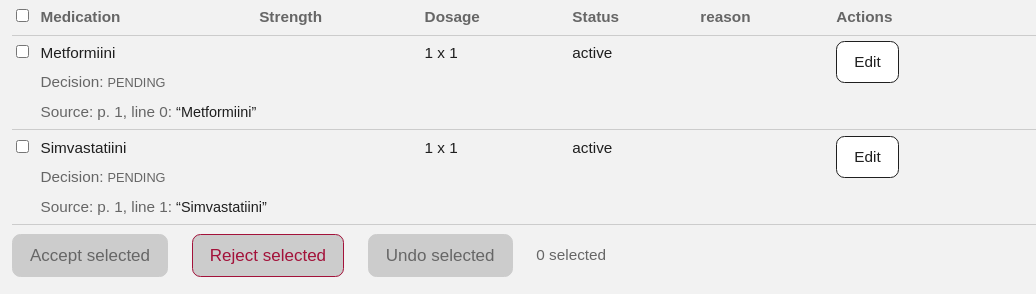
Test case: FactTable › ticks a row by clicking anywhere in it and acts on the ticked rows only
Expected: the button "Accept selected" is disabled, [12,234,168,276]
Click the 2nd cell "1 x 1".
click(441, 147)  # box [425,130,572,165]
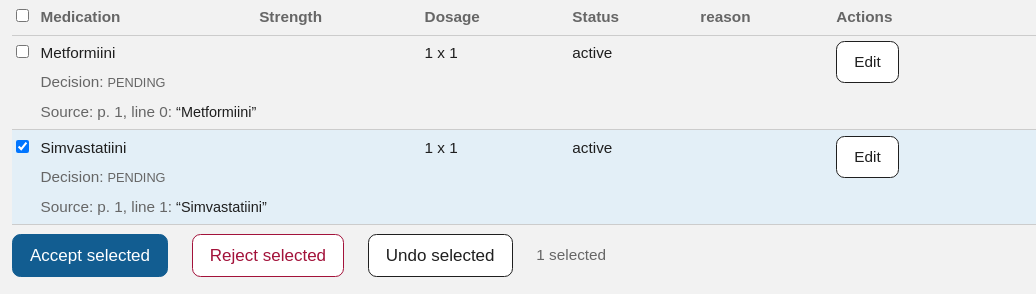
Expected: the checkbox named "Select Metformiini" is not checked, [16,45,29,58]
Expected: the checkbox named "Select Simvastatiini" is checked, [16,140,29,152]
Click the button "Accept selected".
click(90, 255)  # box [12,234,168,276]
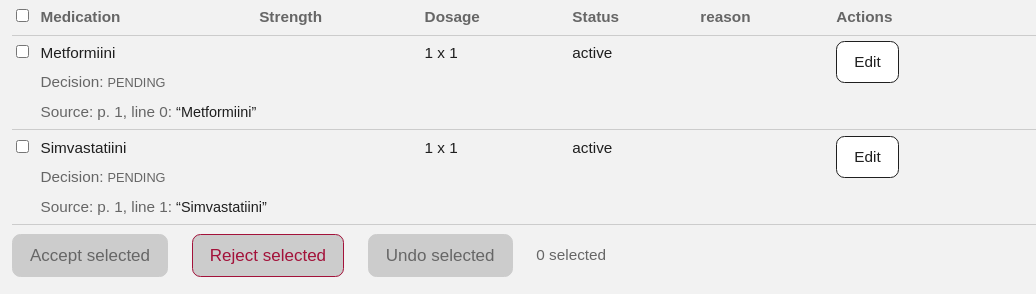
Expected: the checkbox named "Select Simvastatiini" is not checked, [16,140,29,152]
